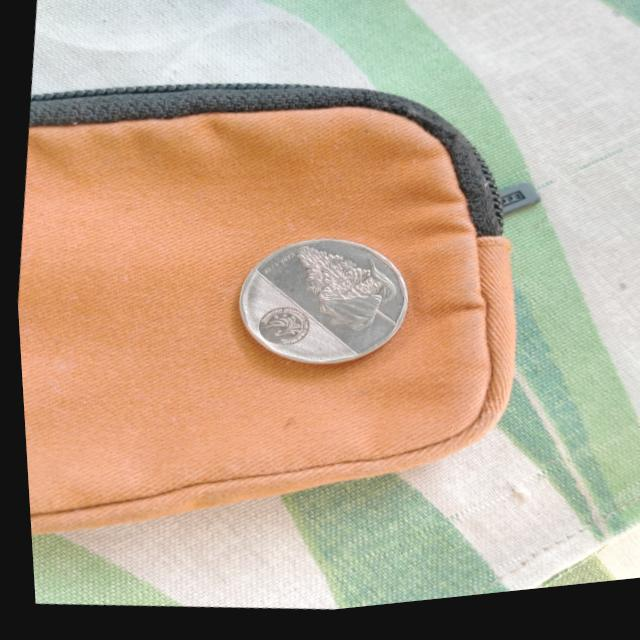10_New_Back: (270, 236, 403, 348)
